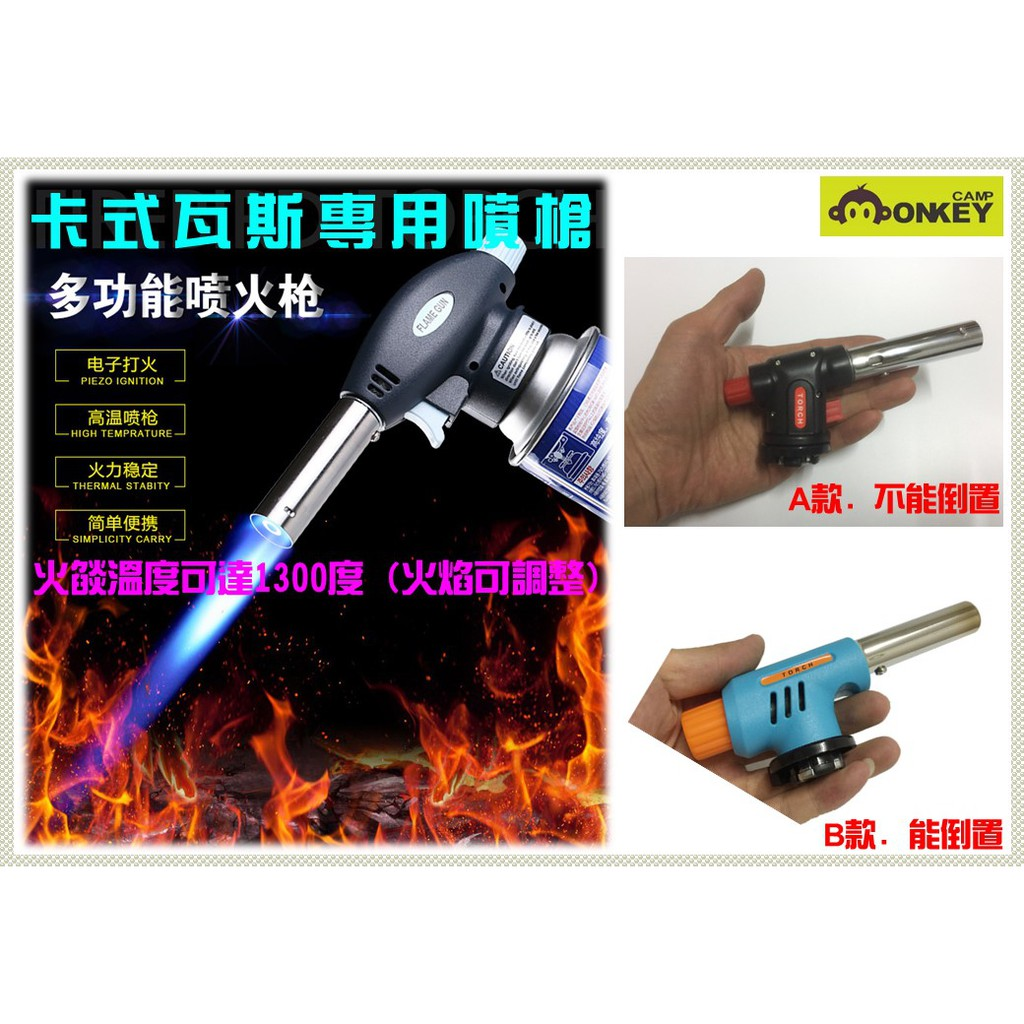gastorch: (246, 252, 607, 590)
